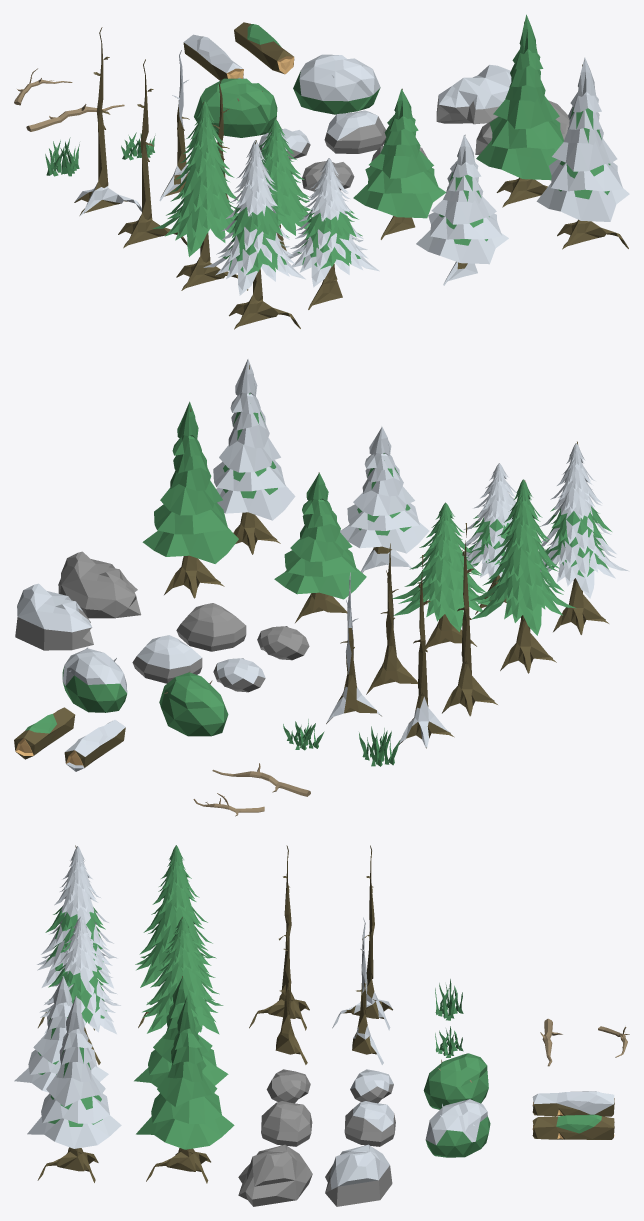
The model's file is nature-winter.glb.
The picture shows the model from 3 angles, top to bottom: view 1: azimuth 30°, elevation 25°; view 2: azimuth 150°, elevation 25°; view 3: azimuth 270°, elevation 25°; orthographic projection. The views are drawn at different scales.
Visible parts, largest first — view 1: Pine_001.005, Pine_001.006, Pine_001.004, Pine_died.004, Pine_001.003, Pine_001.002, Pine_001.001, Icosphere.001, Icosphere, Cube.004, Pine_001, Cube.003 (+11 smaller); view 2: Pine_001.006, Pine_001.005, Pine_died.004, Pine_001.004, Pine_001.002, Pine_001.003, Pine_001, Cube.004, Cube.005, Icosphere, Icosphere.001, Pine_001.001 (+11 smaller); view 3: Pine_001.006, Pine_001.005, Pine_died.004, Pine_001.004, Pine_001, Pine_001.001, Cube.005, Cube.004, Icosphere.001, Pine_001.003, Icosphere, Pine_001.002 (+11 smaller).
Part boxes in pixels (left/top/right/bottom): Pine_001.005: left=536, top=57, right=629, bottom=249; Pine_001.006: left=476, top=14, right=563, bottom=207; Pine_001.004: left=203, top=140, right=305, bottom=329; Pine_died.004: left=152, top=101, right=248, bottom=290; Pine_001.003: left=416, top=134, right=508, bottom=285; Pine_001.002: left=353, top=88, right=446, bottom=239; Pine_001.001: left=288, top=158, right=379, bottom=309; Icosphere.001: left=293, top=54, right=380, bottom=114; Icosphere: left=194, top=78, right=277, bottom=137; Cube.004: left=436, top=64, right=511, bottom=124; Pine_001: left=238, top=118, right=311, bottom=250; Cube.003: left=324, top=110, right=386, bottom=153; Pine_001.006: left=142, top=401, right=238, bottom=598; Pine_001.005: left=213, top=359, right=295, bottom=554; Pine_died.004: left=470, top=479, right=576, bottom=673; Pine_001.004: left=540, top=441, right=629, bottom=634; Pine_001.002: left=274, top=472, right=366, bottom=622; Pine_001.003: left=340, top=426, right=429, bottom=572; Pine_001: left=392, top=502, right=490, bottom=649; Cube.004: left=15, top=583, right=93, bottom=650; Cube.005: left=58, top=551, right=141, bottom=618; Icosphere: left=159, top=671, right=228, bottom=736; Icosphere.001: left=62, top=647, right=127, bottom=712; Pine_001.001: left=460, top=463, right=516, bottom=614; Pine_001.006: left=136, top=996, right=234, bottom=1183; Pine_001.005: left=27, top=995, right=121, bottom=1182; Pine_died.004: left=135, top=845, right=216, bottom=1027; Pine_001.004: left=37, top=845, right=117, bottom=1030; Pine_001: left=142, top=916, right=223, bottom=1034; Pine_001.001: left=39, top=917, right=120, bottom=1064; Cube.005: left=238, top=1144, right=312, bottom=1206; Cube.004: left=325, top=1144, right=392, bottom=1206; Icosphere.001: left=425, top=1099, right=490, bottom=1157; Pine_001.003: left=14, top=976, right=108, bottom=1092; Icosphere: left=423, top=1053, right=488, bottom=1109; Pine_001.002: left=134, top=976, right=228, bottom=1087.
Bounding box in the file's own units: 18.27 × 7.22 × 22.18.
